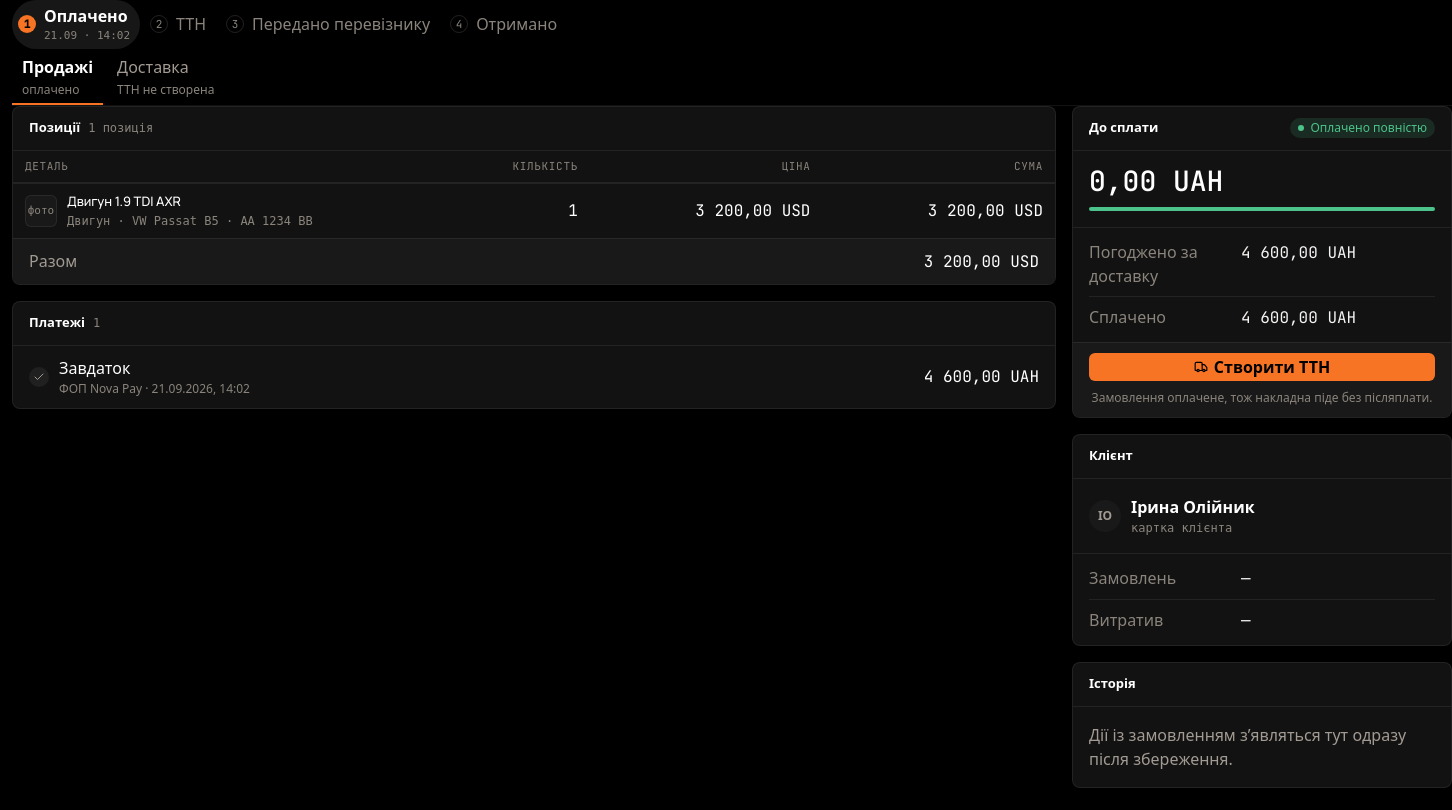
Test: keeps the money half working while the carrier is out of reach
Expected: the element "Платежі" is shown, x1=12 y1=300 x2=1056 y2=408
Click the tab "Доставка ТТН не створена". click: x=166, y=76
box: x1=107 y1=48 x2=224 y2=104
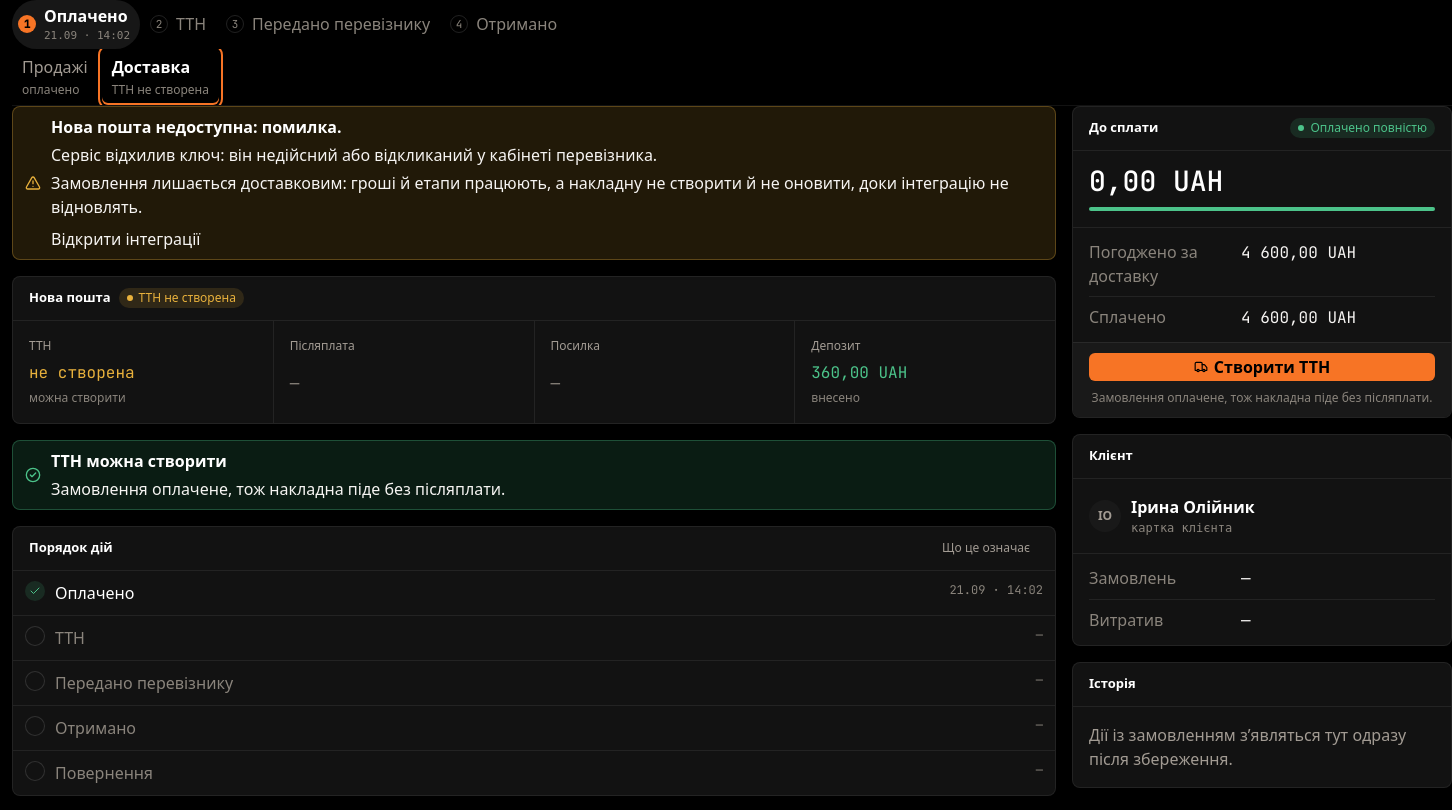
Expected: the text "Нова пошта недоступна: помилка." is shown, x1=51 y1=116 x2=342 y2=138
